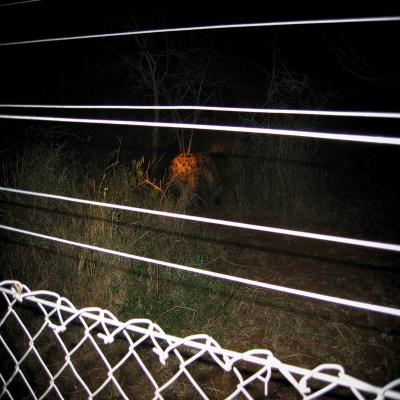hyenas: (163, 147, 228, 201)
